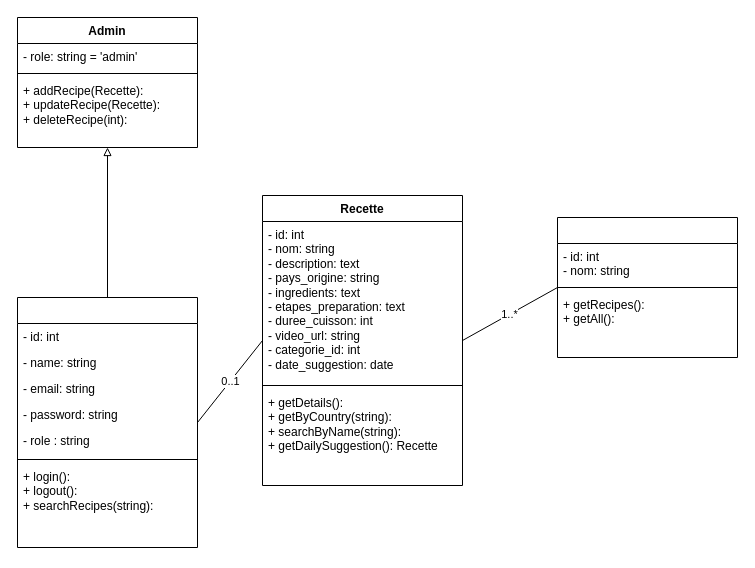
Image size: 755x568. Some labels were removed from this diagram. The shapes that lost their labels are listed below. From the top down, each one's box as (x1, y1, x2, y2) in pixels, then its label:
(556, 216, 738, 358): Categorie
(16, 296, 198, 548): User
